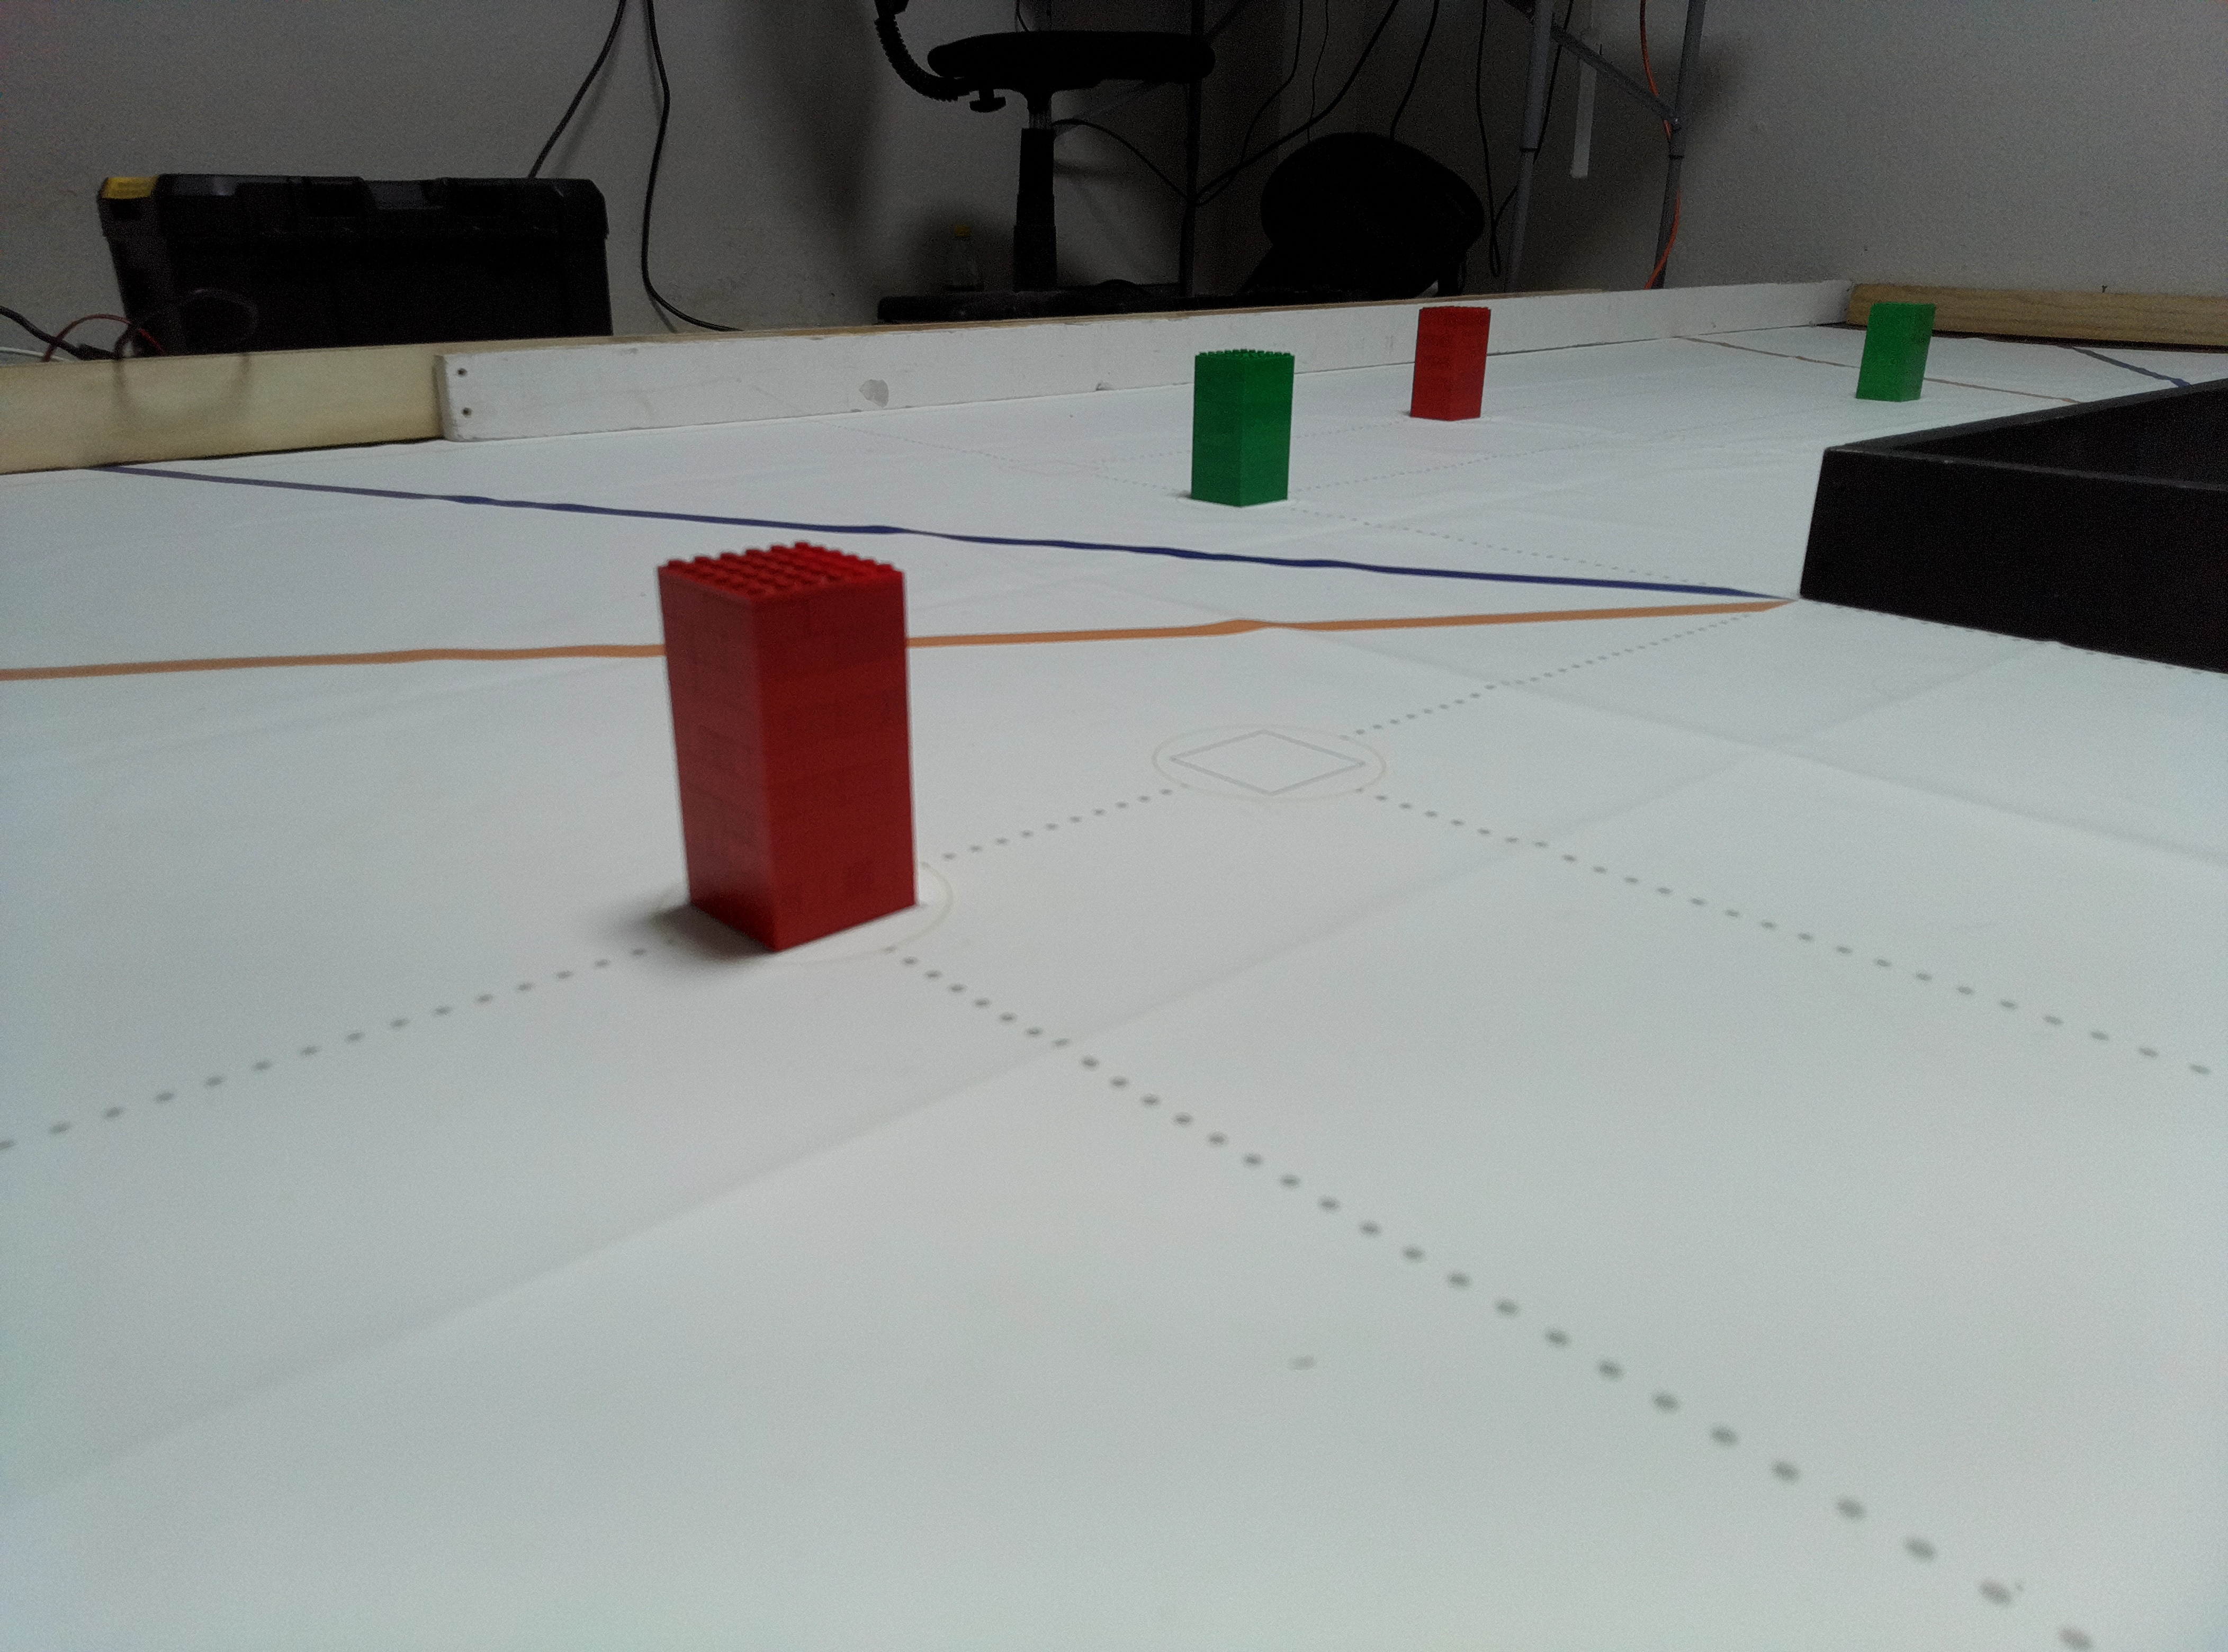greenbox: (1189, 349, 1300, 510), (1853, 300, 1938, 404)
redbox: (652, 540, 921, 960), (1411, 305, 1496, 422)
